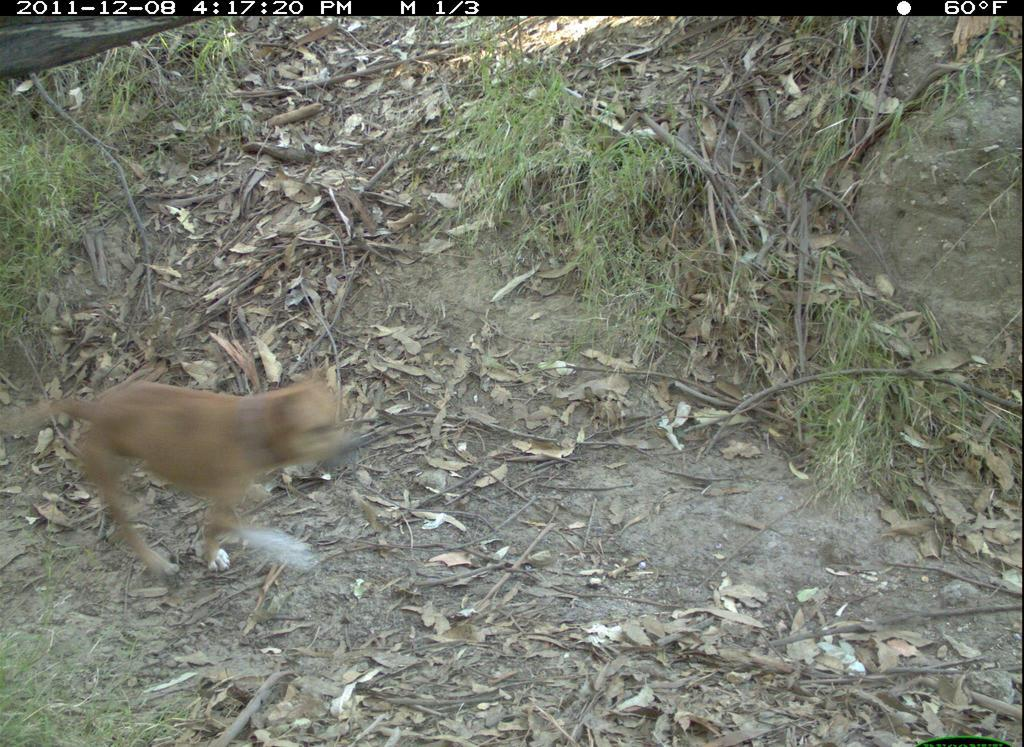dog: (3, 370, 374, 579)
